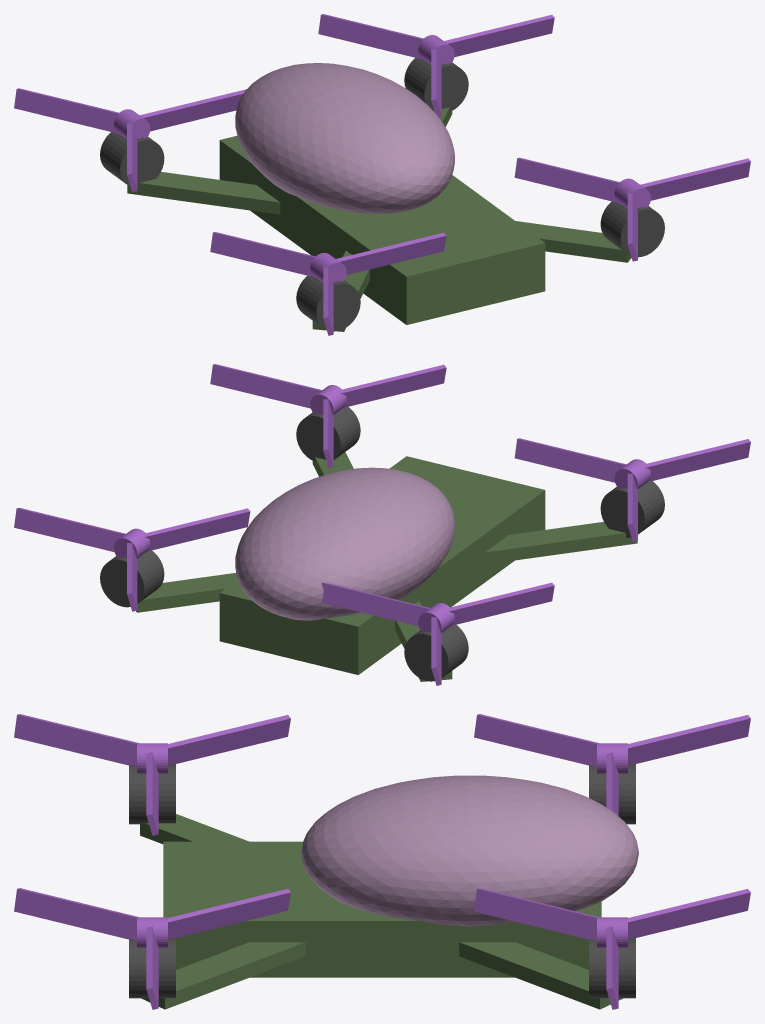
The model's file is FlipMode.glb.
3 renders of one model, top to bottom at view 1: azimuth 30°, elevation 25°; view 2: azimuth 150°, elevation 25°; view 3: azimuth 270°, elevation 25°, orthographic. The views are drawn at different scales.
Visible parts, largest first — view 1: canopy, frame_body, prop_2, prop_0, prop_1, prop_3, arm_3, arm_0, motor_2, motor_0, motor_3, motor_1 (+1 smaller); view 2: canopy, frame_body, prop_1, prop_0, prop_2, prop_3, arm_2, motor_3, arm_1, motor_1, motor_0, motor_2 (+1 smaller); view 3: canopy, frame_body, prop_2, prop_1, prop_0, prop_3, arm_1, arm_0, motor_0, motor_1, motor_2, arm_2 (+1 smaller).
Part boxes in pixels (box(x1,y1,x2,y2)): canopy: box(235, 63, 454, 213); frame_body: box(219, 136, 545, 324); prop_2: box(210, 232, 446, 335); prop_0: box(514, 157, 750, 261); prop_1: box(318, 14, 554, 117); prop_3: box(14, 88, 246, 192); arm_3: box(127, 172, 280, 214); arm_0: box(516, 221, 631, 262); motor_2: box(296, 275, 360, 331); motor_0: box(600, 201, 664, 257); motor_3: box(100, 132, 164, 187); motor_1: box(404, 58, 468, 111); canopy: box(235, 467, 454, 620); frame_body: box(219, 456, 545, 674); prop_1: box(14, 507, 250, 611); prop_0: box(210, 364, 446, 467); prop_2: box(514, 438, 750, 541); prop_3: box(321, 582, 554, 685); arm_2: box(484, 522, 637, 564); motor_3: box(404, 625, 468, 681); arm_1: box(136, 573, 237, 612); motor_1: box(100, 550, 164, 607); motor_0: box(296, 407, 360, 461); motor_2: box(600, 481, 664, 537); canopy: box(301, 775, 638, 926); frame_body: box(163, 841, 601, 977); prop_2: box(14, 714, 290, 835); prop_1: box(474, 888, 750, 1009); prop_0: box(14, 888, 290, 1009); prop_3: box(474, 714, 750, 815); arm_1: box(459, 942, 623, 1009); arm_0: box(141, 942, 305, 1009); motor_0: box(129, 938, 175, 998); motor_1: box(589, 938, 635, 998); motor_2: box(129, 764, 175, 824); arm_2: box(140, 814, 248, 843).
Bounding box in the file's own units: 0.2083 × 0.0516 × 0.2355.
